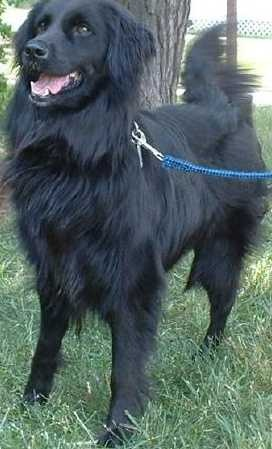dog: (0, 0, 272, 432)
